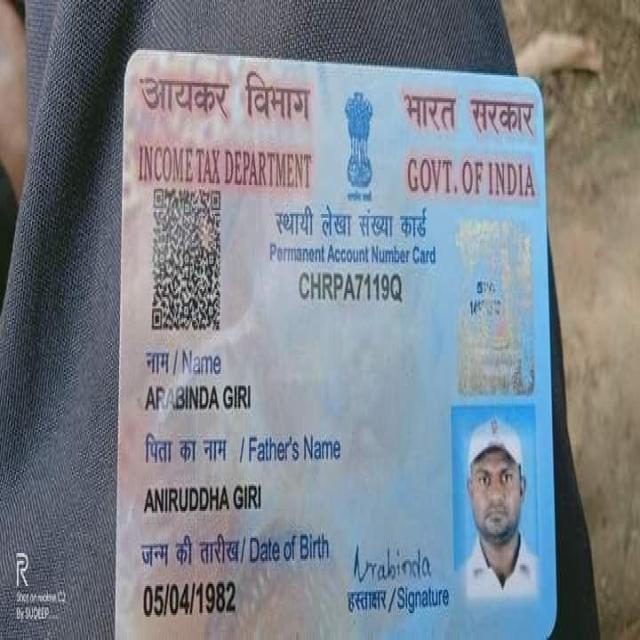pan_card: (112, 54, 553, 640)
